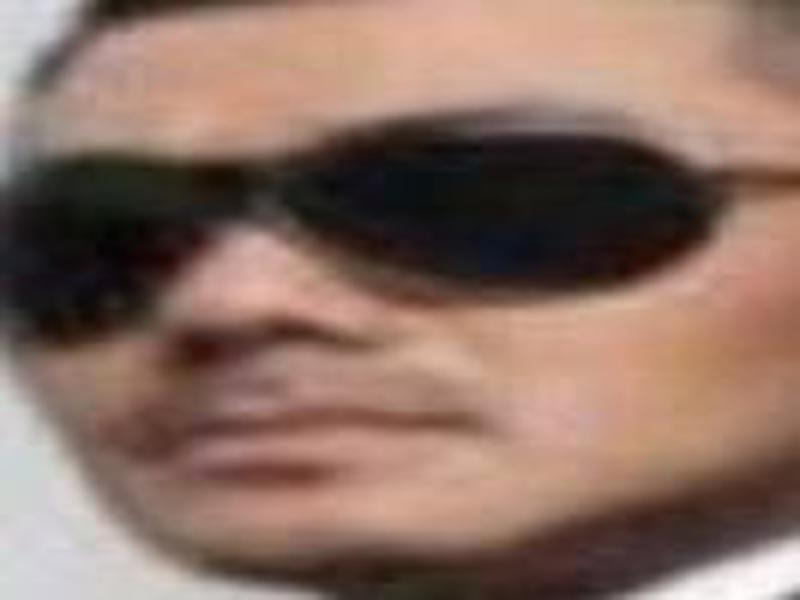without_mask: (10, 12, 797, 600)
